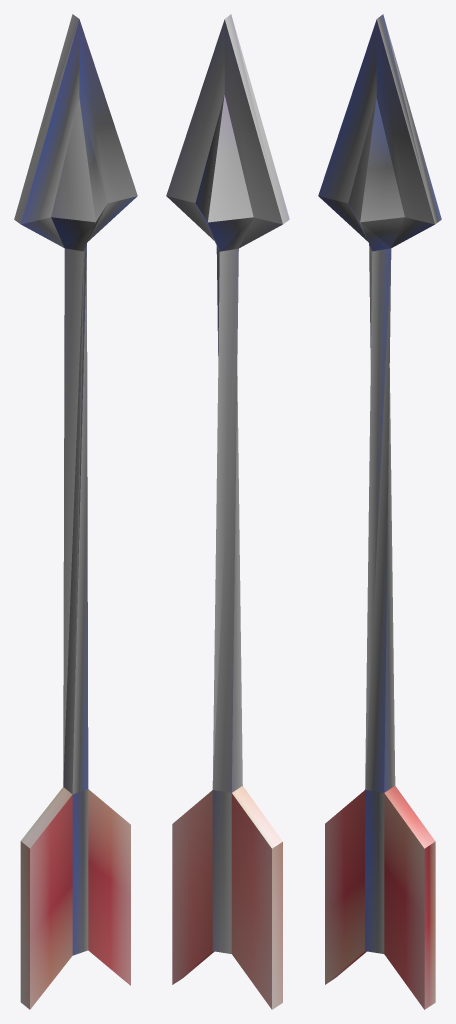
The model's file is arrow.fbx.
3 renders of one model, left to right at view 1: azimuth 30°, elevation 25°; view 2: azimuth 150°, elevation 25°; view 3: azimuth 330°, elevation 25°, orthographic.
Visible parts, largest first — view 1: arrow; view 2: arrow; view 3: arrow.
Part boxes in pixels (box(x1,y1,x2,y2)): arrow: box(14, 14, 137, 1009); arrow: box(166, 14, 289, 1009); arrow: box(318, 14, 441, 1009).
Bounding box in the file's own units: 19.93 × 159 × 11.79.
